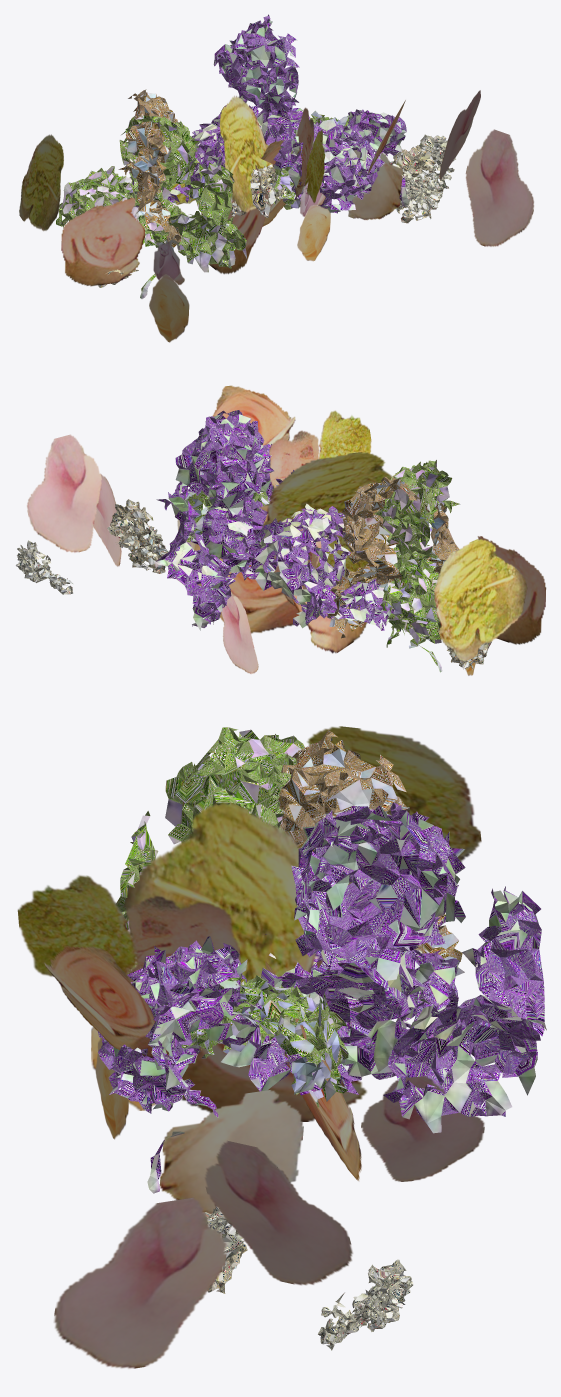
File: mound_a_AOlight.glb
The picture shows the model from 3 angles, top to bottom: view 1: azimuth 30°, elevation 25°; view 2: azimuth 150°, elevation 25°; view 3: azimuth 270°, elevation 25°; orthographic projection. The views are drawn at different scales.
Parts seen in each view (by area): view 1: cards, v2, v7, v8, v3, v0, v4, v10, v5, v9, v6, v11; view 2: cards, v7, v4, v3, v2, v0, v10, v11, v6, v1, v8; view 3: cards, v7, v8, v2, v3, v6, v11, v4, v9.
Boxes of the visible parts, x1=… form: cards: x1=19, y1=90, x2=533, y2=342; v2: x1=117, y1=115, x2=247, y2=272; v7: x1=213, y1=14, x2=318, y2=169; v8: x1=288, y1=109, x2=409, y2=213; v3: x1=118, y1=89, x2=182, y2=250; v0: x1=56, y1=166, x2=185, y2=298; v4: x1=132, y1=116, x2=258, y2=203; v10: x1=389, y1=145, x2=443, y2=223; v5: x1=231, y1=164, x2=286, y2=217; v9: x1=401, y1=169, x2=442, y2=213; v6: x1=269, y1=110, x2=349, y2=209; v11: x1=415, y1=134, x2=455, y2=194; cards: x1=27, y1=385, x2=546, y2=675; v7: x1=155, y1=410, x2=273, y2=630; v4: x1=245, y1=503, x2=394, y2=630; v3: x1=324, y1=477, x2=459, y2=638; v2: x1=374, y1=460, x2=460, y2=644; v0: x1=377, y1=567, x2=442, y2=672; v10: x1=107, y1=499, x2=169, y2=573; v11: x1=16, y1=540, x2=73, y2=594; v6: x1=185, y1=490, x2=269, y2=544; v1: x1=447, y1=641, x2=491, y2=669; v8: x1=175, y1=428, x2=294, y2=502; cards: x1=17, y1=726, x2=484, y2=1368; v7: x1=221, y1=802, x2=546, y2=1133; v8: x1=97, y1=936, x2=255, y2=1193; v2: x1=116, y1=727, x2=304, y2=973; v3: x1=278, y1=730, x2=464, y2=1006; v6: x1=181, y1=975, x2=348, y2=1107; v11: x1=318, y1=1259, x2=413, y2=1350; v4: x1=265, y1=934, x2=459, y2=1028; v9: x1=204, y1=1206, x2=244, y2=1271.
Size of the model in its own units: 0.88 by 0.4429 by 0.4656.
Materials: 6 (6 with a texture image).
